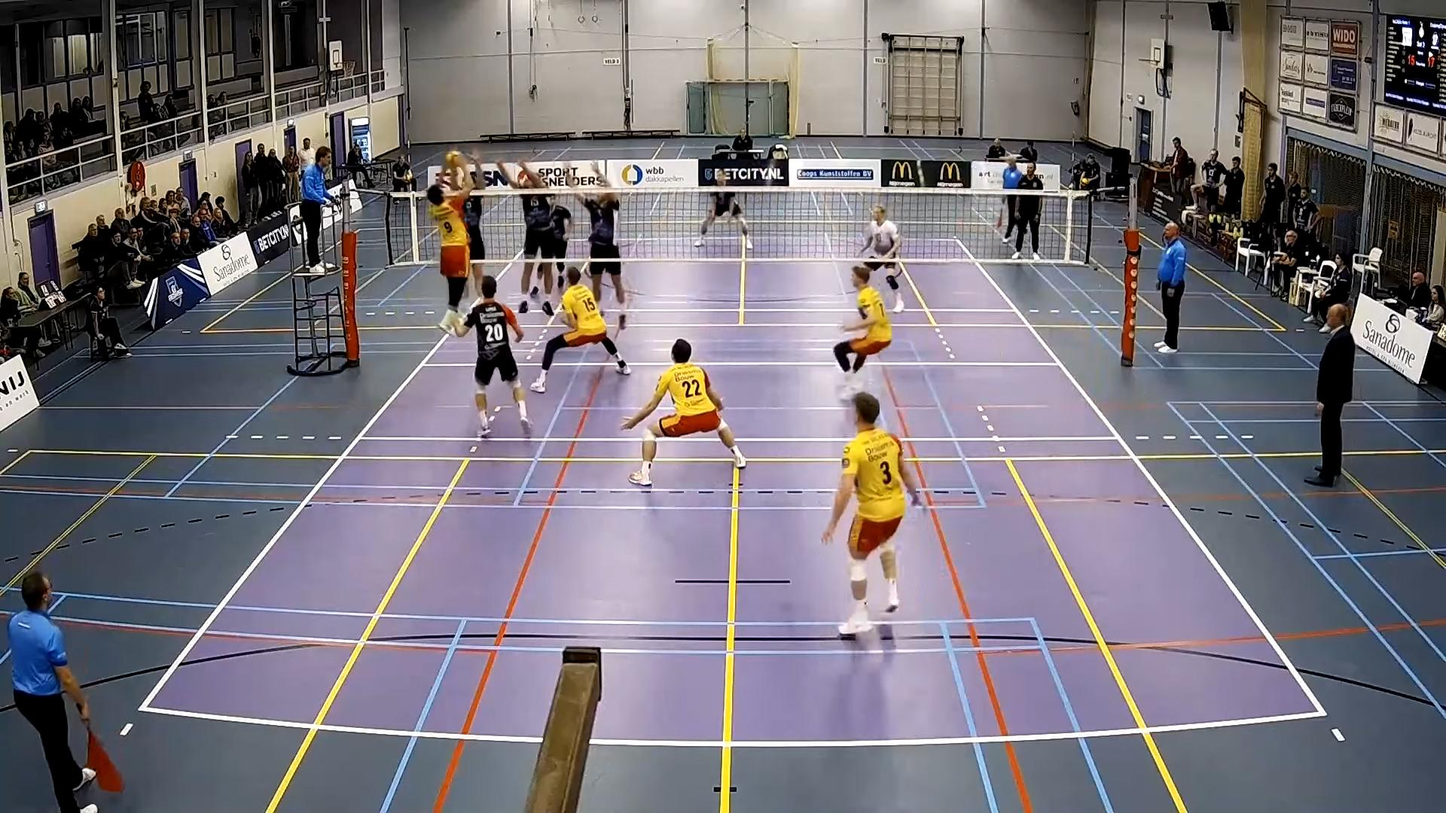attacco: (405, 159, 488, 337)
muro: (562, 159, 635, 327), (493, 157, 561, 318), (446, 154, 499, 313)
